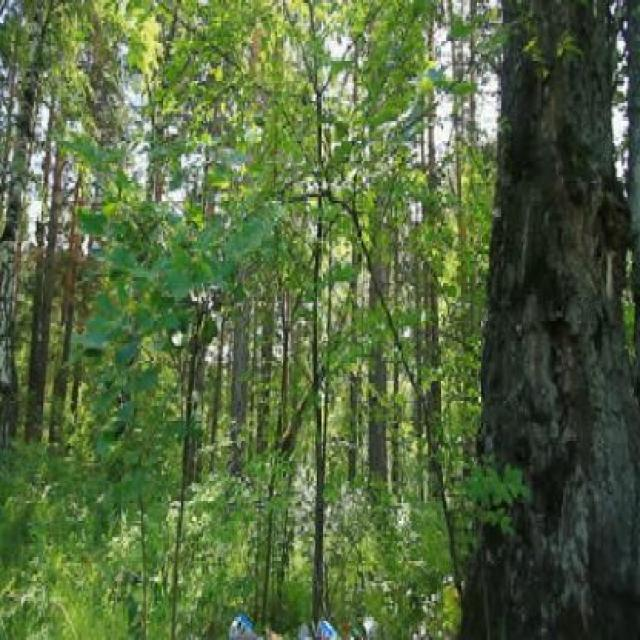garbage: (219, 603, 440, 638)
